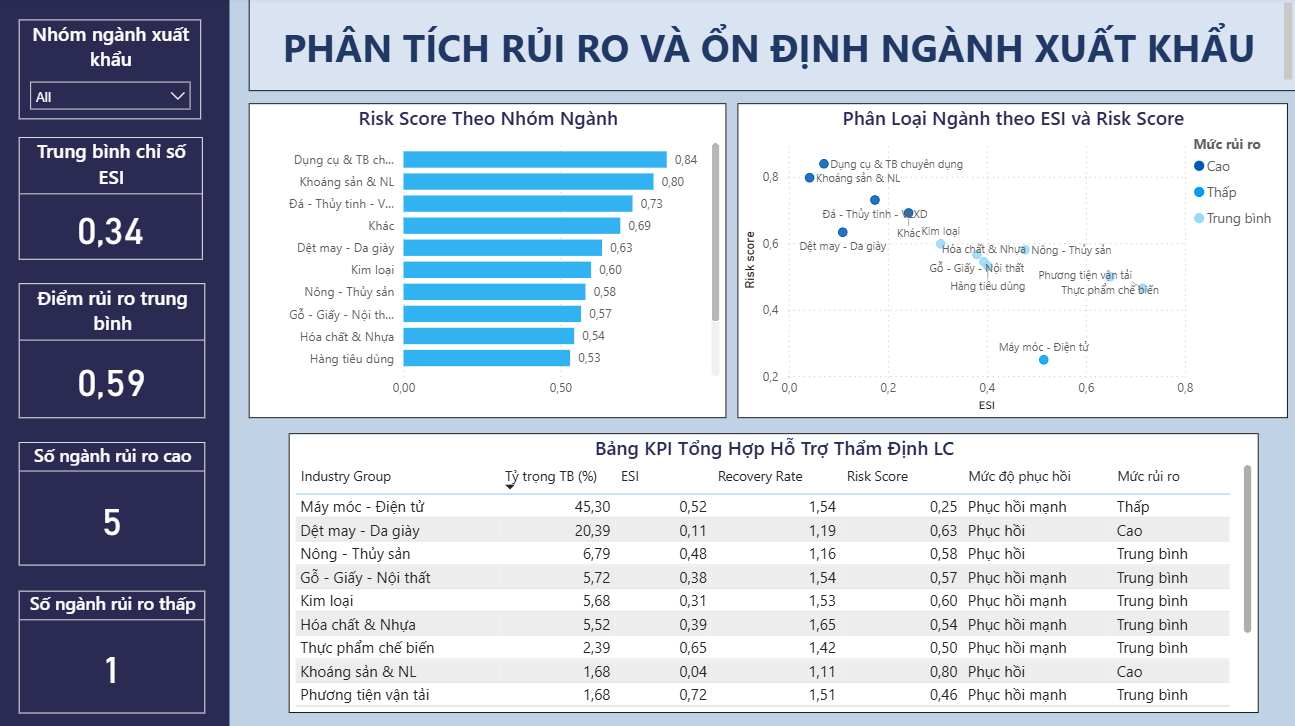

The dashboard page shown, as its layout file describes it:
{"tool":"powerbi","page":{"name":"Phân loại Rủi ro và KPI Ngành","canvas":[1280,720],"ordinal":4},"visuals":[{"type":"shape","box":[0,0,234.8,720.2],"z":0},{"type":"card","title":"Số ngành rủi ro thấp  ","fields":{"Values":["kpi_summary.So Nganh Rui Ro Thap"]},"box":[28.1,580.8,182.2,119.8],"z":1000},{"type":"card","title":"Điểm rủi ro trung bình","fields":{"Values":["kpi_summary.Avg Risk Score2"]},"box":[28.1,280,182.2,132.1],"z":2000},{"type":"card","title":"Trung bình chỉ số ESI ","fields":{"Values":["kpi_summary.Avg ESI2"]},"box":[28.1,137,179.8,119.8],"z":3000},{"type":"tableEx","title":"Bảng KPI Tổng Hợp Hỗ Trợ Thẩm Định LC","fields":{"Values":["kpi_summary.Industry_Group","Sum(kpi_summary.Avg_Share_pct)","Sum(kpi_summary.ESI)","Sum(kpi_summary.Recovery_Rate)","Sum(kpi_summary.Risk_Score)","kpi_summary.Recovery_Label","kpi_summary.Risk_Level"]},"box":[292.3,426.8,948.9,273.9],"z":4000},{"type":"slicer","title":"Nhóm ngành xuất khẩu","fields":{"Values":["dim_industry.Industry_Group"]},"box":[28.1,22,178.5,97.8],"z":5000},{"type":"card","title":"Số ngành rủi ro cao","fields":{"Values":["kpi_summary.So Nganh Rui Ro Cao"]},"box":[28.1,435.3,182.2,121.1],"z":6000},{"type":"textbox","box":[253.1,0,1027.2,91.7],"z":7000},{"type":"clusteredBarChart","title":"Risk Score Theo Nhóm Ngành","fields":{"Category":["kpi_summary.Industry_Group"],"Y":["Sum(kpi_summary.Risk_Score)"]},"box":[253.1,103.9,467.1,308.2],"z":8000},{"type":"scatterChart","title":"Phân Loại Ngành theo ESI và Risk Score","fields":{"X":["Sum(kpi_summary.ESI)"],"Y":["Sum(kpi_summary.Risk_Score)"],"Category":["kpi_summary.Industry_Group"],"Series":["kpi_summary.Risk_Level"]},"box":[731.3,103.9,538,308.2],"z":9000}]}

Visuals, with their boxes in screenshot pixels (x1, y1, x2, y2), scaled from the page's 1280x720 canvas onto the 1295x726 screenshot:
shape: 0, 0, 238, 725
"Số ngành rủi ro thấp  " card: 28, 586, 213, 706
"Điểm rủi ro trung bình" card: 28, 282, 213, 416
"Trung bình chỉ số ESI " card: 28, 138, 210, 259
"Bảng KPI Tổng Hợp Hỗ Trợ Thẩm Định LC" tableEx: 296, 430, 1256, 707
"Nhóm ngành xuất khẩu" slicer: 28, 22, 209, 121
"Số ngành rủi ro cao" card: 28, 439, 213, 561
textbox: 256, 0, 1294, 92
"Risk Score Theo Nhóm Ngành" clusteredBarChart: 256, 105, 729, 416
"Phân Loại Ngành theo ESI và Risk Score" scatterChart: 740, 105, 1284, 416
